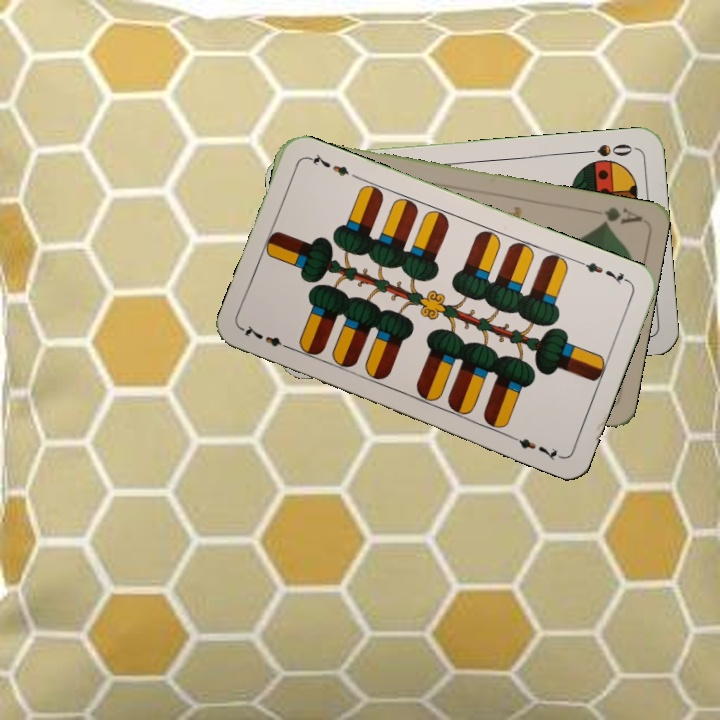E7: (239, 321, 296, 353), (575, 257, 632, 288)
GA: (597, 202, 644, 228)
SO: (579, 140, 638, 159)
